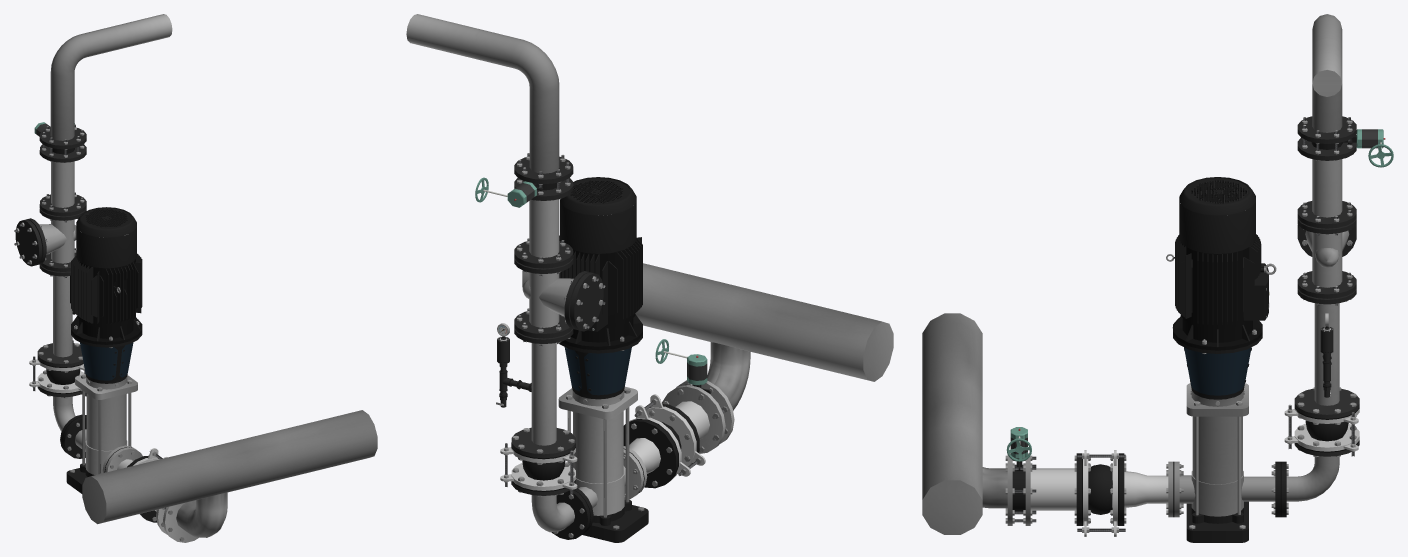
File: index.gltf
The picture shows the model from 3 angles, left to right: view 1: azimuth 30°, elevation 25°; view 2: azimuth 150°, elevation 25°; view 3: azimuth 270°, elevation 25°; orthographic projection. The views are drawn at different scales.
Parts seen in each view (by area): view 1: Lo-BODY_01, 图形001, Lo-BOD_01, Lo-ELEMENT_01; view 2: Lo-BODY_01, Lo-BOD_01, 图形001, Lo-ELEMENT_01, Lo-ELEA_01; view 3: Lo-BODY_01, Lo-BOD_01, 图形001, Lo-ELEMENT_01, Lo-ELEA_01.
Part boxes in pixels (x1,y1,x2,y2): Lo-BODY_01: (39, 14, 172, 511); 图形001: (82, 410, 377, 537); Lo-BOD_01: (15, 127, 199, 542); Lo-ELEMENT_01: (14, 124, 198, 541); Lo-BODY_01: (406, 14, 709, 542); Lo-BOD_01: (497, 156, 734, 539); 图形001: (522, 263, 893, 410); Lo-ELEMENT_01: (496, 153, 727, 537); Lo-ELEA_01: (475, 177, 707, 385); Lo-BODY_01: (1030, 14, 1349, 542); Lo-BOD_01: (1007, 116, 1359, 536); 图形001: (922, 313, 1007, 534); Lo-ELEMENT_01: (1005, 117, 1356, 532); Lo-ELEA_01: (1006, 129, 1393, 461).
Bounding box in the file's own units: 1.58 × 2.29 × 1.88.
Materials: 12 (12 with a texture image).
